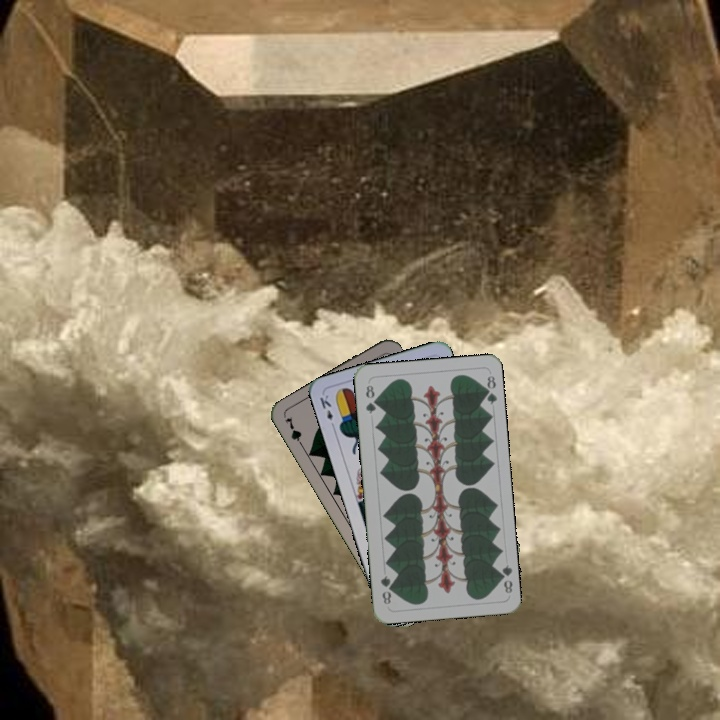EK: (315, 391, 338, 431)
G7: (281, 412, 307, 451)
G8: (494, 561, 515, 596), (361, 381, 379, 416)
